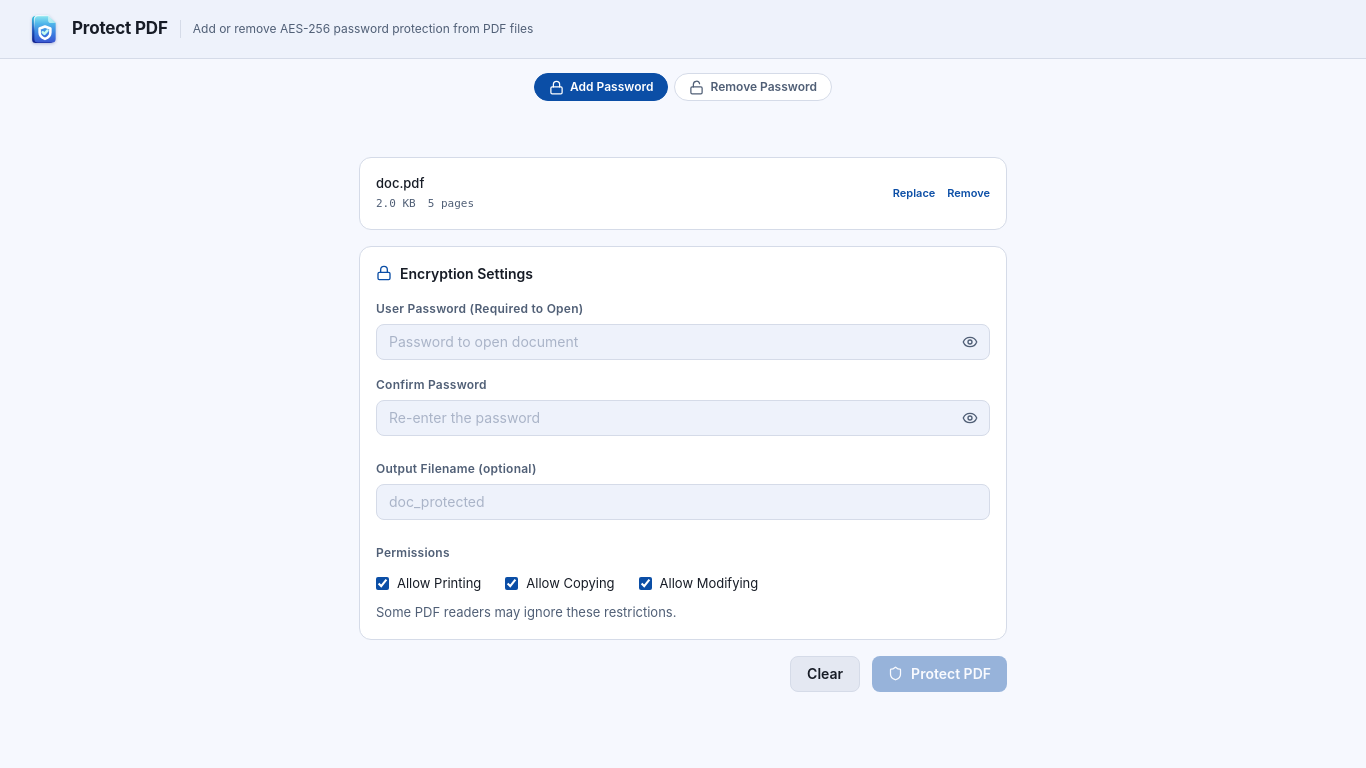
Test: Protect PDF › cancels without showing an error and keeps what was typed
expect the text "doc.pdf" is shown: met, box [376,175,424,191]
Type "secret-1" into the password field labelled "User Password (Required to Open)" at (683, 342), box [376,324,990,360]
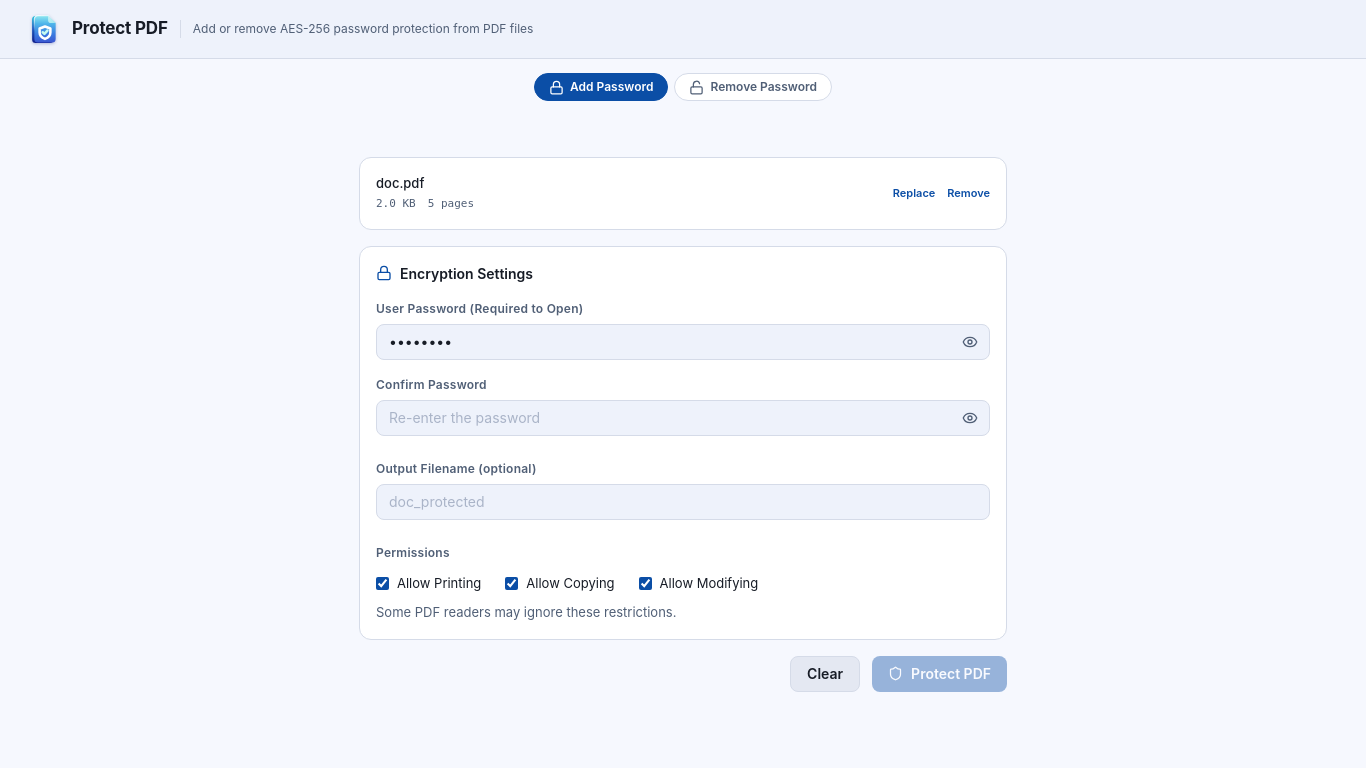
Type "secret-1" into the password field labelled "Confirm Password" at (683, 418), box [376,400,990,436]
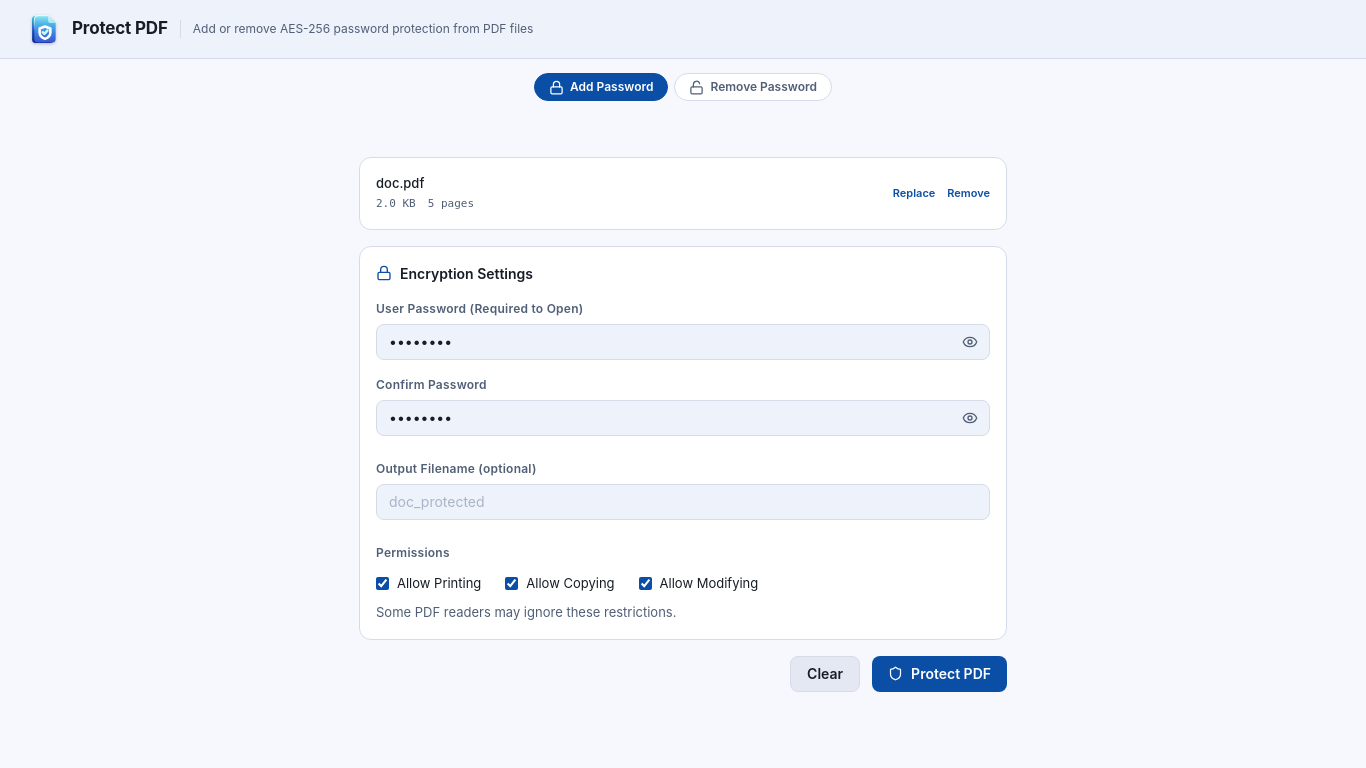
Click the button "Protect PDF" at (940, 674), box [872,656,1007,692]
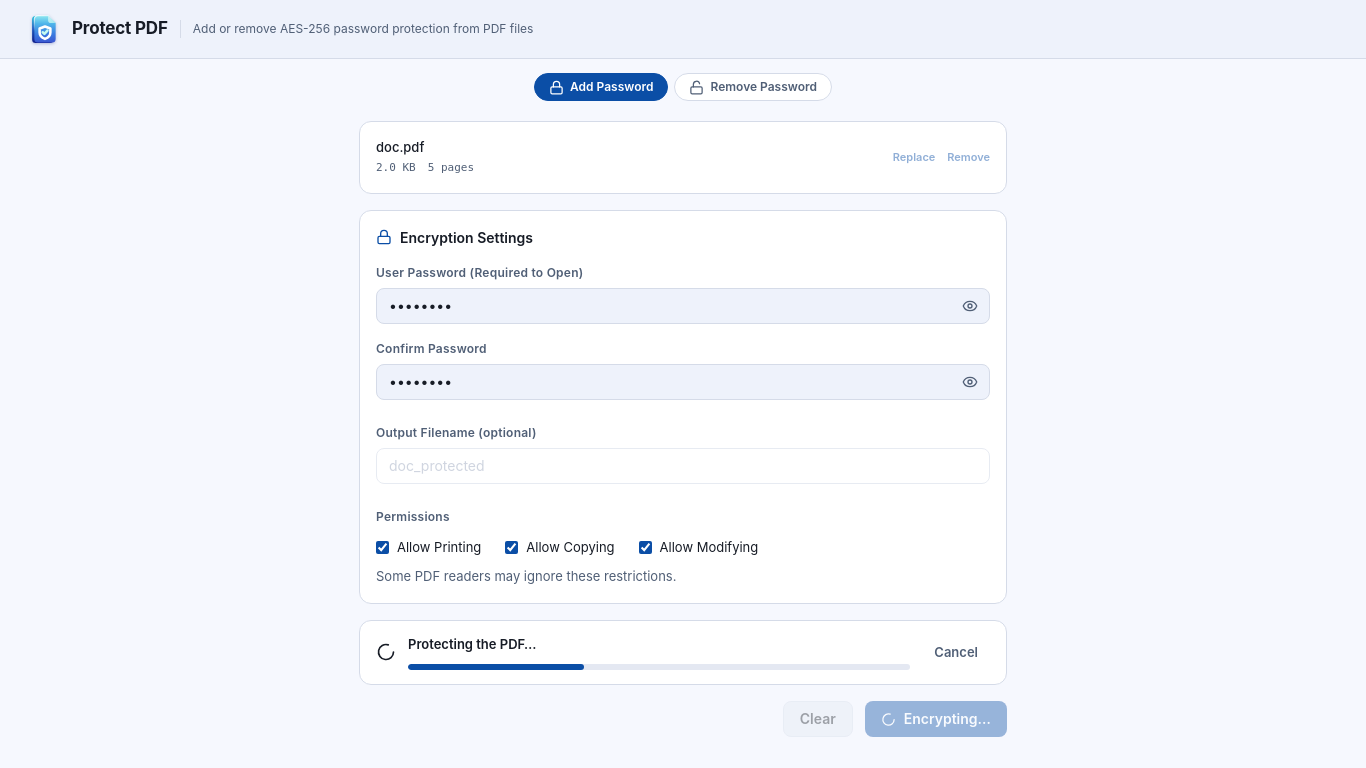
Click the button "Cancel" at (956, 652), box [922,638,990,666]
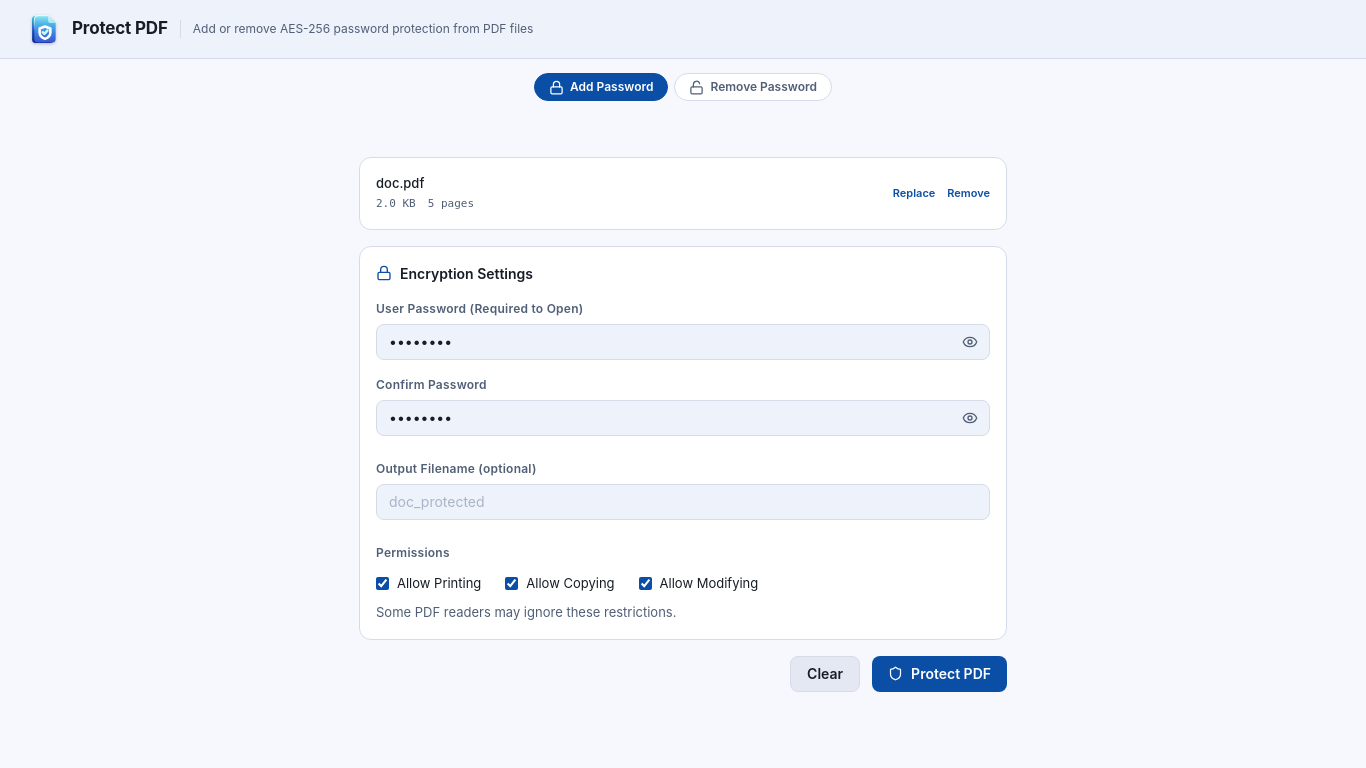
expect the button "Protect PDF" is enabled: met, box [872,656,1007,692]
expect the message "Protecting the PDF… Cancel" is gone: met
